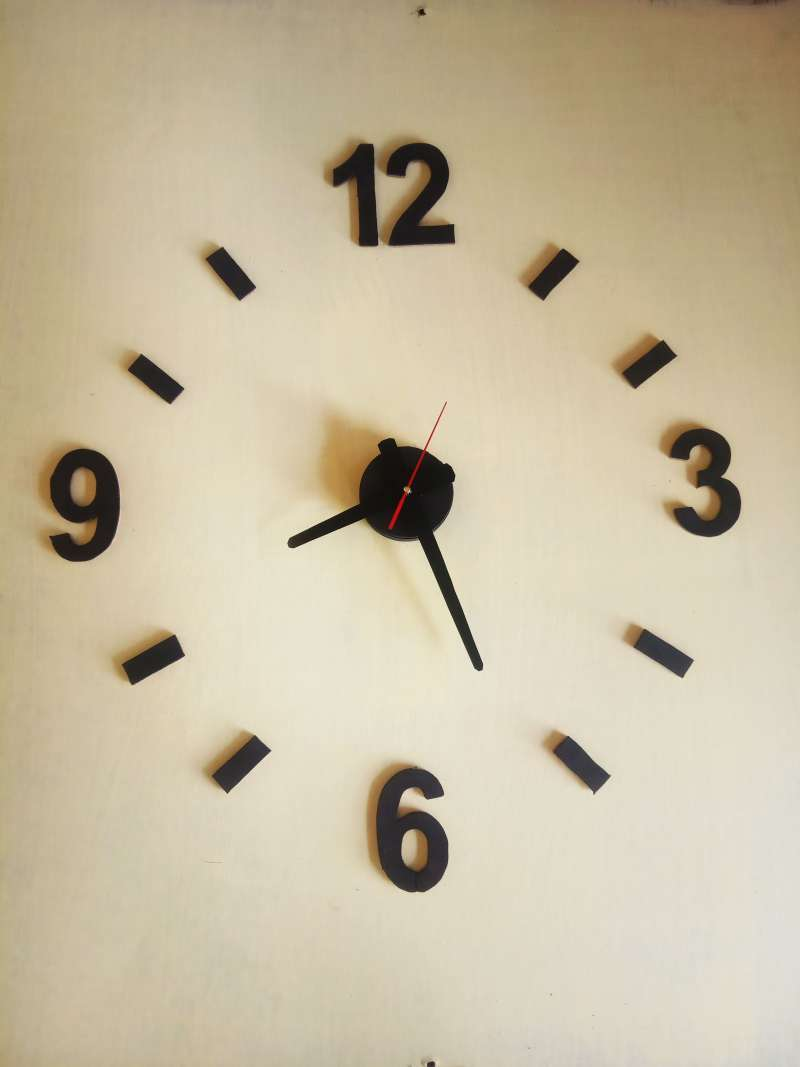jam dinding: (8, 103, 750, 933)
